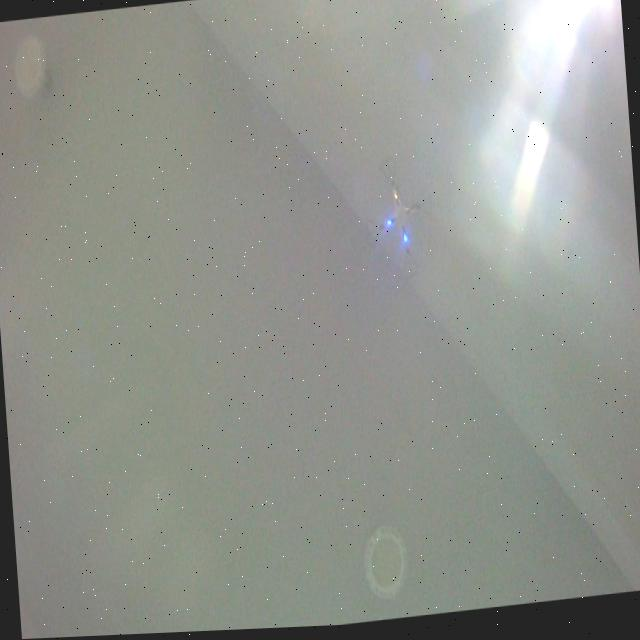drone: (357, 152, 438, 289)
